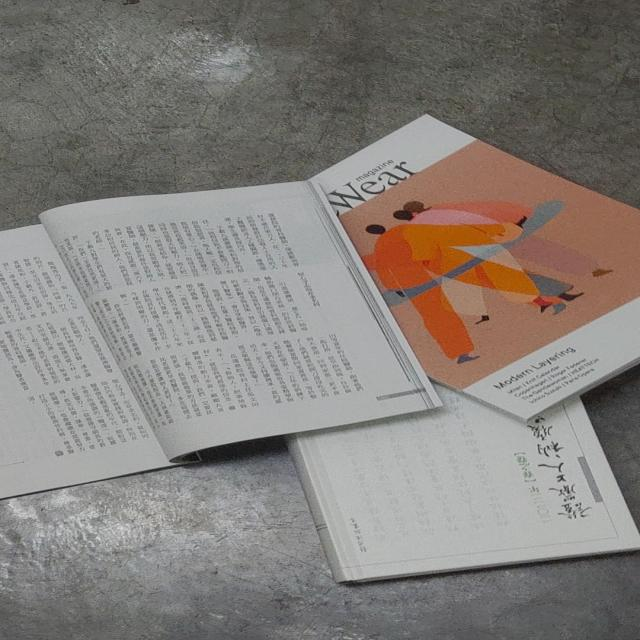paper: (0, 111, 640, 585)
